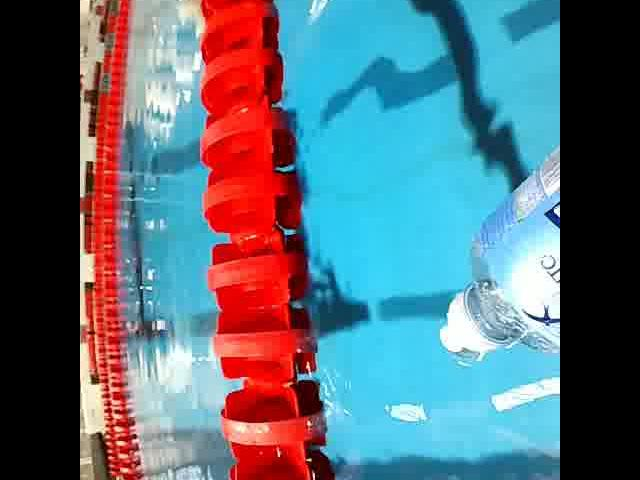Bottle: (434, 134, 560, 380)
